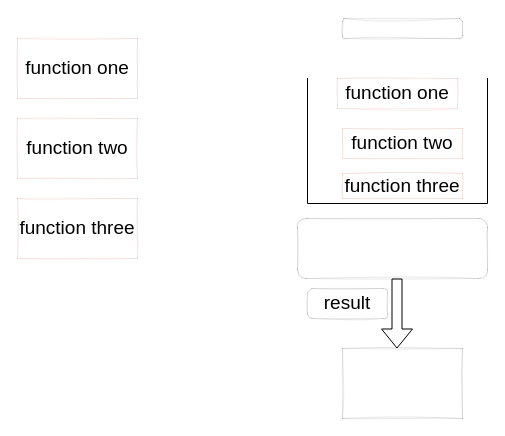
The diagram is 505 pixels wide and 436 high, and some of its shapes have lost their labels. The centre of each missing label's shape, as x and y in pixels:
call stack: the point at 402,28
last in first out: the point at 392,248
one two three: the point at 402,383
